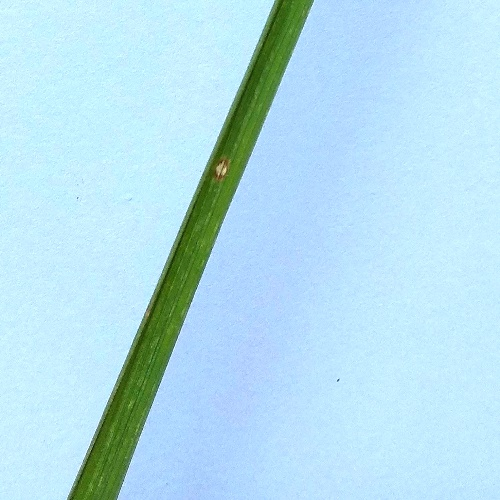Busuk Leher: (208, 155, 235, 183)
